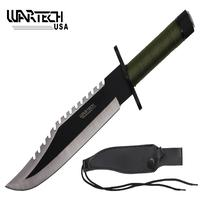knife: (4, 16, 192, 194)
